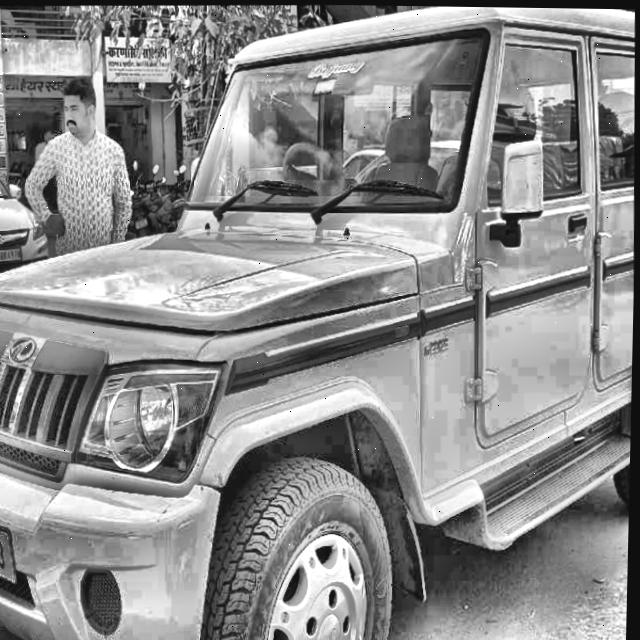light_vehicle: (0, 14, 640, 640)
